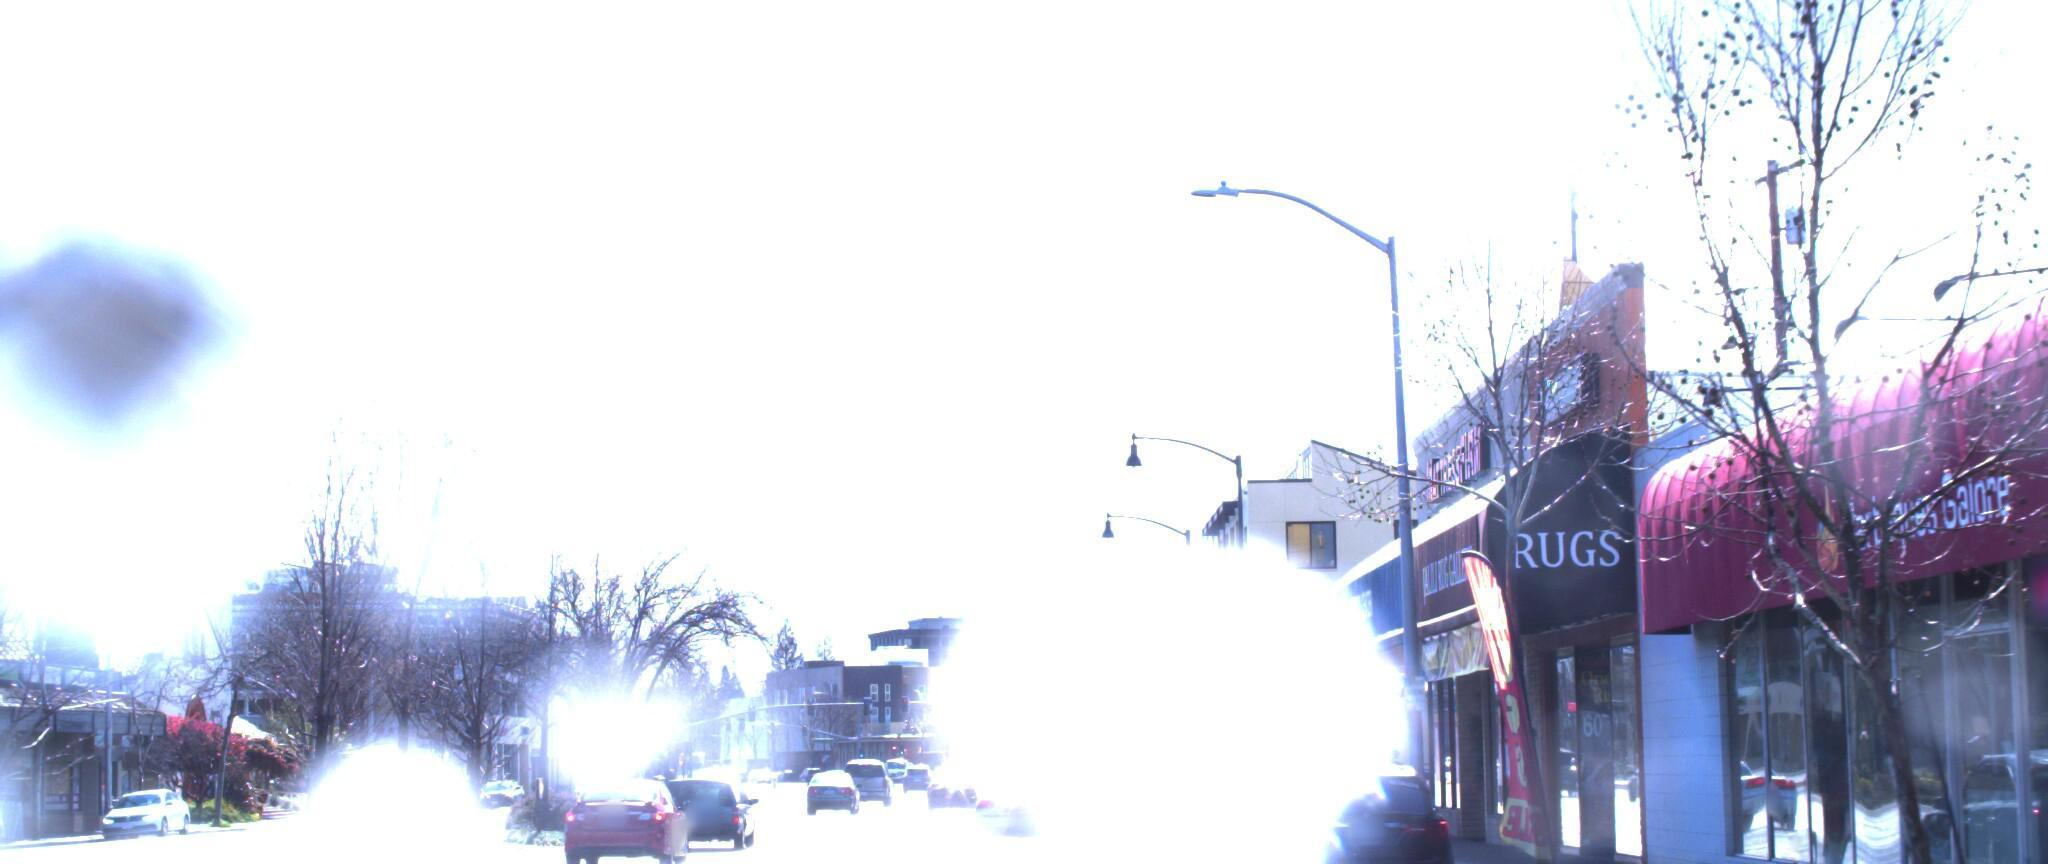car: (1226, 753, 1443, 864), (552, 773, 690, 864), (661, 775, 771, 854), (969, 765, 1063, 843)
